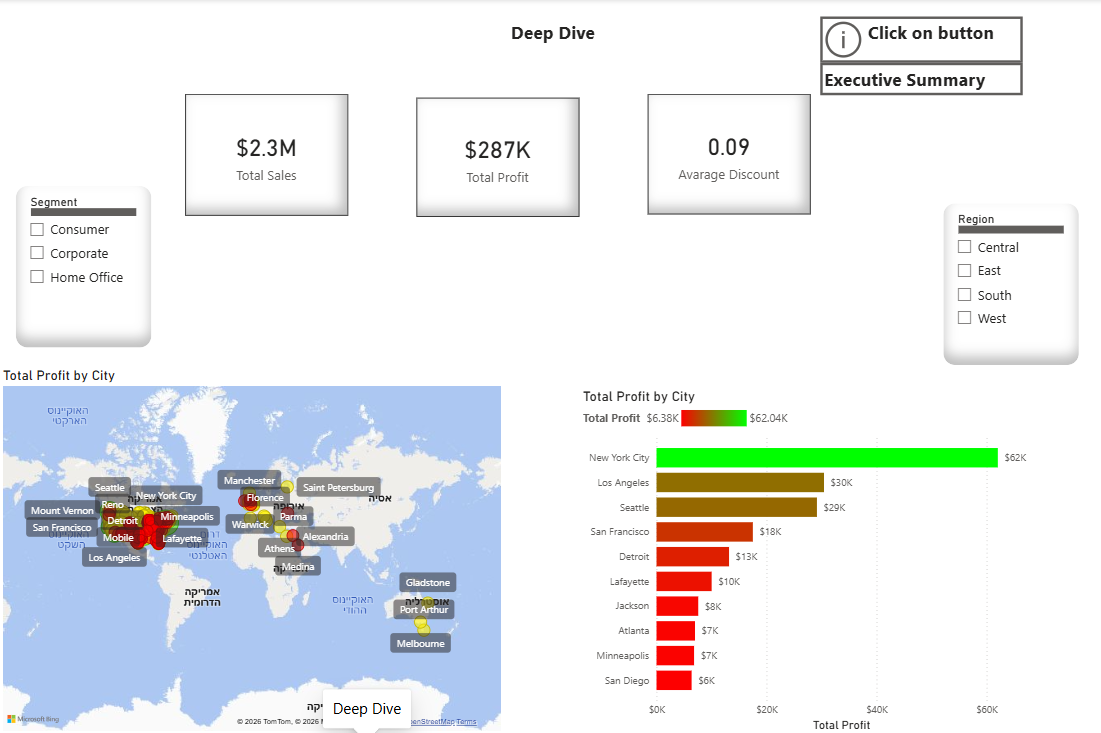

The dashboard page shown, as its layout file describes it:
{"tool":"powerbi","page":{"name":"Deep Dive","canvas":[1350,900],"ordinal":1},"visuals":[{"type":"map","title":"Total Profit by City","fields":{"Size":["Sum(SampleSuperstoreProject.Profit)"],"Category":["SampleSuperstoreProject.City"]},"box":[0,449.4,619.1,450.9],"z":0},{"type":"card","fields":{"Values":["Avg(SampleSuperstoreProject.Discount)"]},"box":[793.5,116.7,199.3,147.2],"z":1000},{"type":"textbox","box":[427.3,21.5,499.1,41.3],"z":2000},{"type":"actionButton","box":[1004.3,21.4,247.6,56.6],"z":3000},{"type":"actionButton","box":[1004.3,78,247.6,39.7],"z":4000},{"type":"textbox","box":[1004.3,78,214,56.6],"z":5000},{"type":"textbox","box":[1057.8,21.4,194.1,56.6],"z":6000},{"type":"clusteredBarChart","fields":{"Category":["SampleSuperstoreProject.City"],"Y":["Sum(SampleSuperstoreProject.Profit)"]},"box":[709.2,475.4,567.1,424.9],"z":6001},{"type":"slicer","fields":{"Values":["SampleSuperstoreProject.Segment"]},"box":[19.7,228,167,199.3],"z":6002},{"type":"slicer","fields":{"Values":["SampleSuperstoreProject.Region"]},"box":[1154.3,249.5,167,199.3],"z":6003},{"type":"card","fields":{"Values":["Sum(SampleSuperstoreProject.Sales)"]},"box":[228,116.7,199.3,149],"z":6004},{"type":"card","fields":{"Values":["Sum(SampleSuperstoreProject.Profit)"]},"box":[510.7,120.3,199.3,145.4],"z":6005}]}

Visuals, with their boxes in screenshot pixels (x1, y1, x2, y2), scaled from the page's 1350x900 canvas onto the 1101x733 screenshot:
"Total Profit by City" map: 0:366:505:732
card - Avg(SampleSuperstoreProject.Discount): 647:95:810:215
textbox: 348:18:756:51
actionButton: 819:17:1021:64
actionButton: 819:64:1021:96
textbox: 819:64:994:110
textbox: 863:17:1021:64
clusteredBarChart - SampleSuperstoreProject.City x Sum(SampleSuperstoreProject.Profit): 578:387:1041:732
slicer - SampleSuperstoreProject.Segment: 16:186:152:348
slicer - SampleSuperstoreProject.Region: 941:203:1078:366
card - Sum(SampleSuperstoreProject.Sales): 186:95:348:216
card - Sum(SampleSuperstoreProject.Profit): 417:98:579:216
